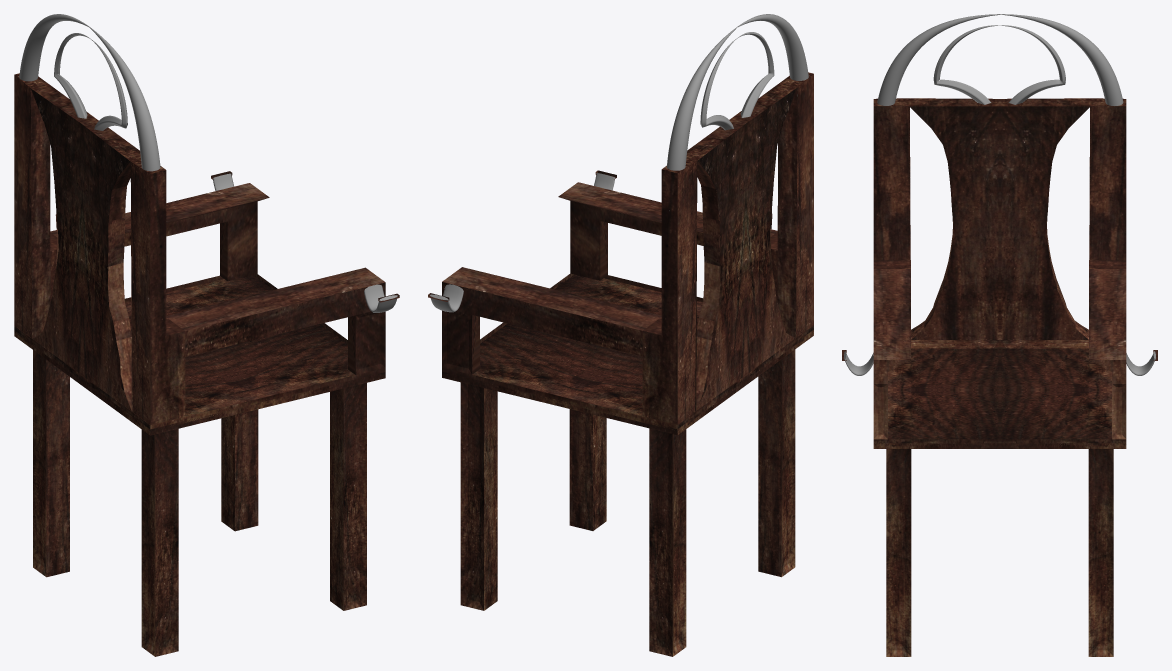
Rendered from chair.glb.
The picture shows the model from 3 angles, left to right: view 1: azimuth 30°, elevation 25°; view 2: azimuth 150°, elevation 25°; view 3: azimuth 270°, elevation 25°; orthographic projection. The views are drawn at different scales.
Visible parts, largest first — view 1: Cube.001, Cube, NurbsPath, NurbsCircle, BézierCurve.001; view 2: Cube.001, Cube, NurbsPath, NurbsCircle, BézierCurve.002; view 3: Cube.001, Cube, NurbsPath, NurbsCircle.
Boxes of the visible parts, bbox=[...] form: Cube.001: bbox=[14, 73, 399, 429]; Cube: bbox=[14, 275, 385, 656]; NurbsPath: bbox=[19, 14, 160, 171]; NurbsCircle: bbox=[54, 33, 127, 130]; BézierCurve.001: bbox=[364, 284, 397, 312]; Cube.001: bbox=[428, 72, 813, 430]; Cube: bbox=[442, 274, 813, 656]; NurbsPath: bbox=[667, 14, 808, 210]; NurbsCircle: bbox=[700, 32, 774, 130]; BézierCurve.002: bbox=[430, 284, 463, 312]; Cube.001: bbox=[842, 98, 1157, 445]; Cube: bbox=[873, 348, 1126, 656]; NurbsPath: bbox=[877, 14, 1123, 105]; NurbsCircle: bbox=[933, 25, 1065, 104].
Bounding box in the file's own units: 4.03 × 9.52 × 5.
Materials: 2 (1 with a texture image).
